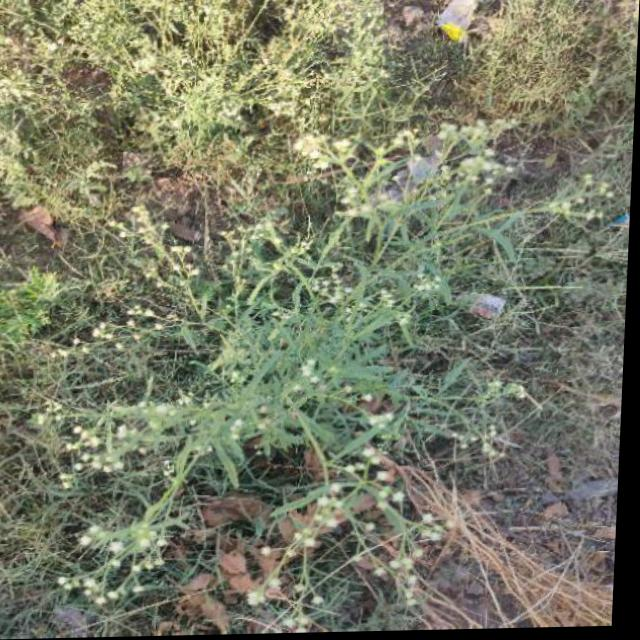weed: (4, 12, 583, 599)
